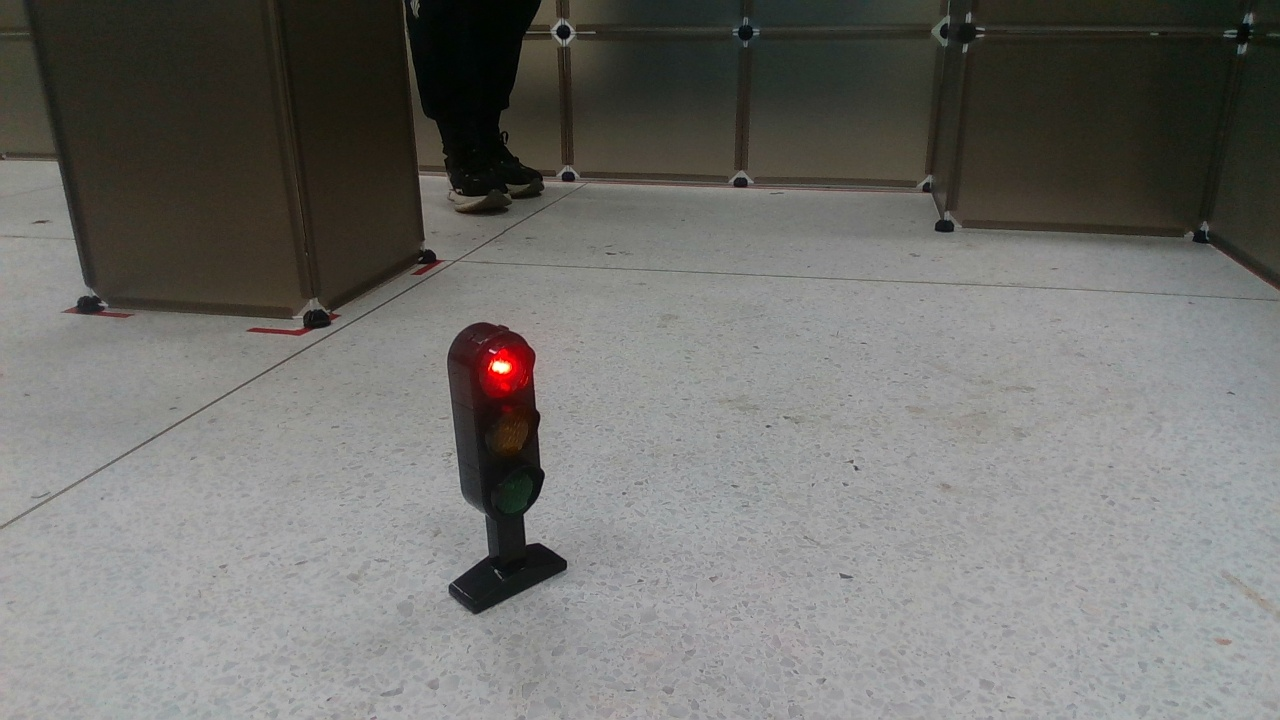Red traffic light: (441, 320, 568, 613)
